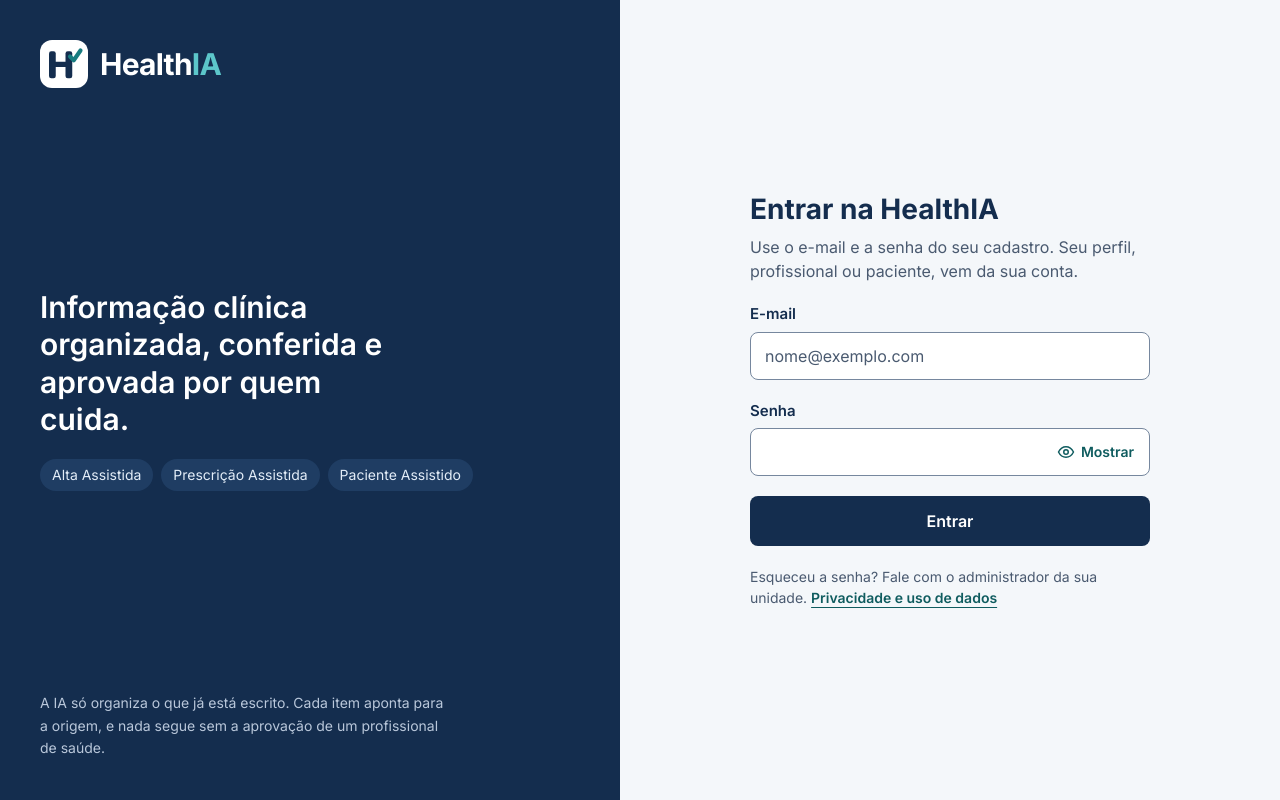
Test: Tela de login › com a senha errada, avisa e continua na tela de login
In the field labelled "E-mail": (950, 356) [750,332,1150,380], type "medica@exemplo.com"
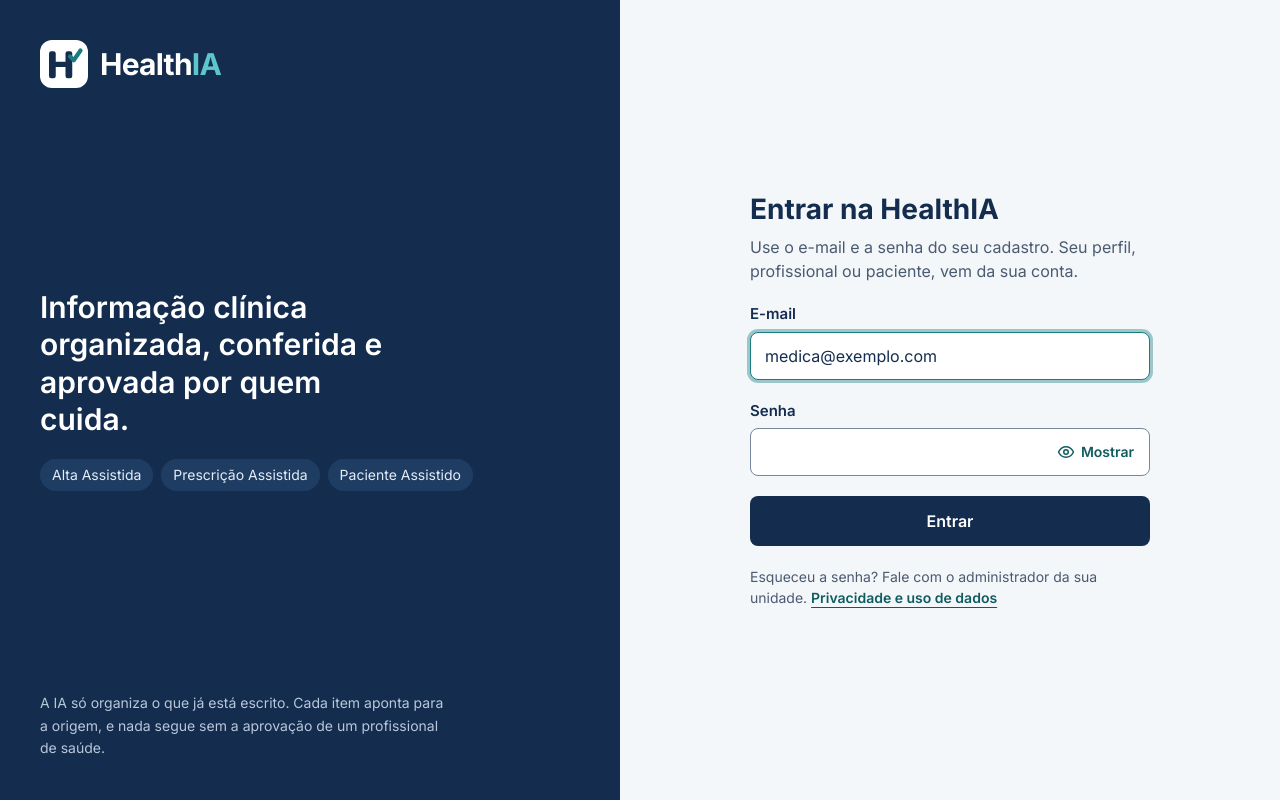
In the password field labelled "Senha": (950, 452) [750,428,1150,476], type "outra-senha"
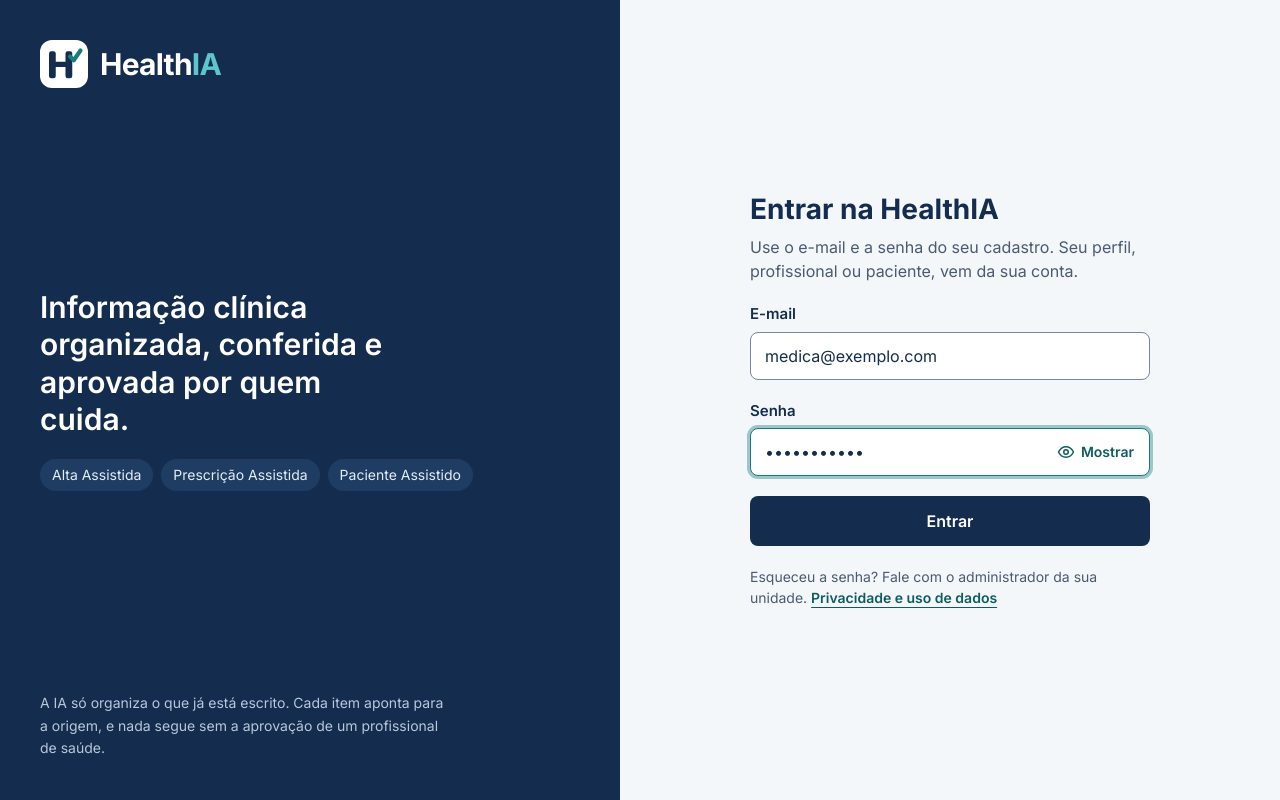
Click the button "Entrar": (950, 521) [750,496,1150,546]
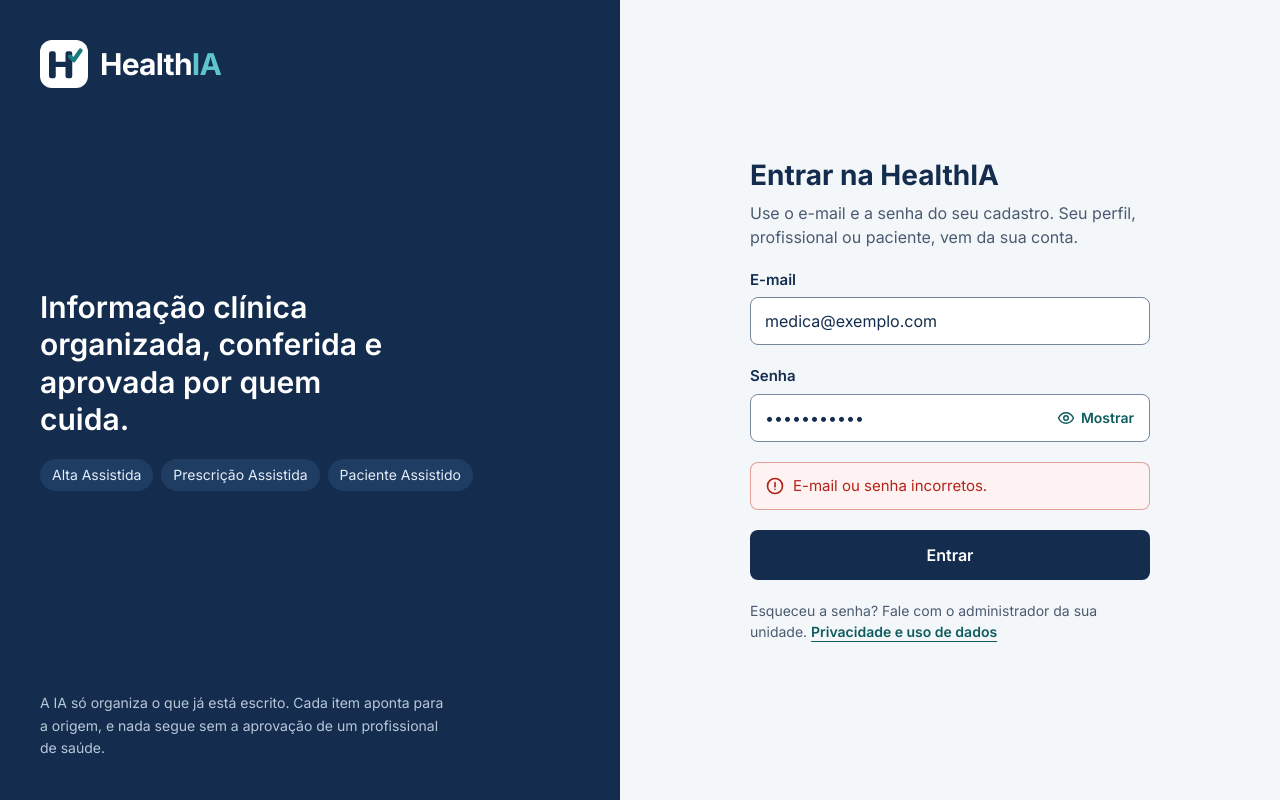
expect the message reads "E-mail ou senha incorretos.": met, box [793,476,987,495]
